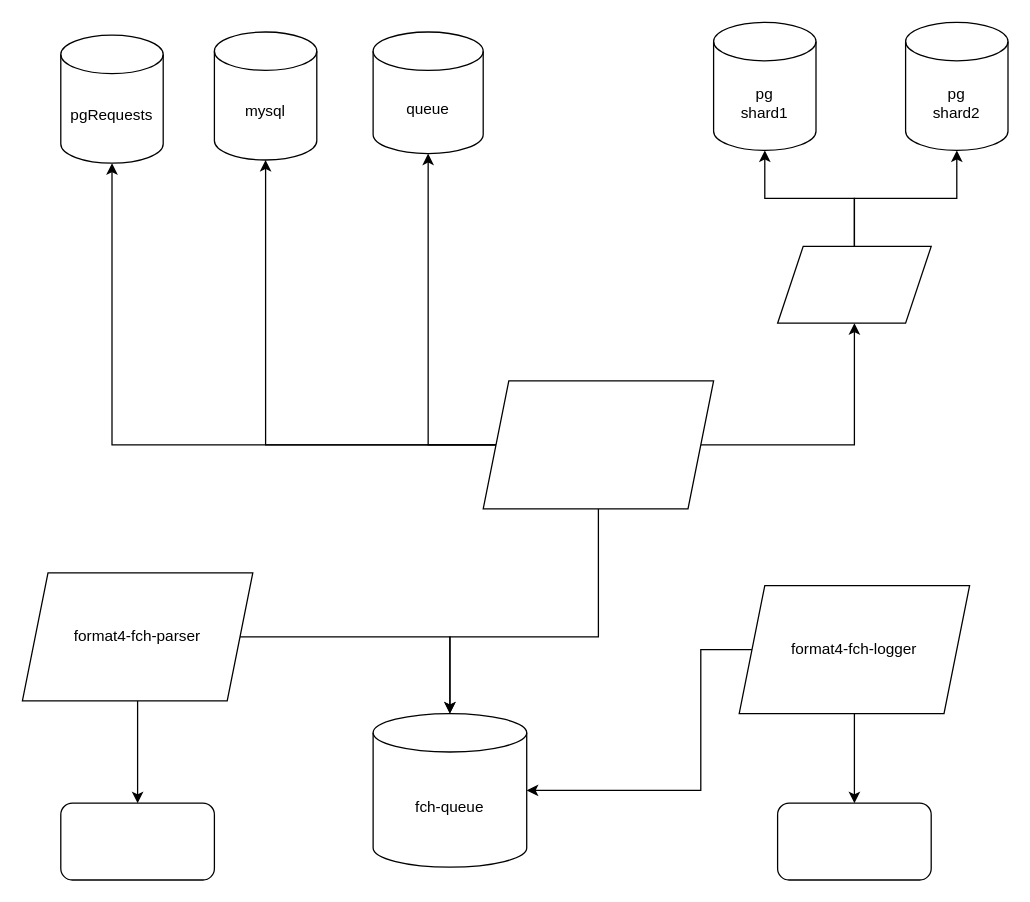
Some shapes in this 1030 by 902 pixel diagram are drawn without their labels. Each missing label, with the centre of its shape:
"format4-fch-loader" goes at (598,444).
"total-connector" goes at (853,284).
"volume for farse" goes at (137,841).
"volume for logs" goes at (853,841).
